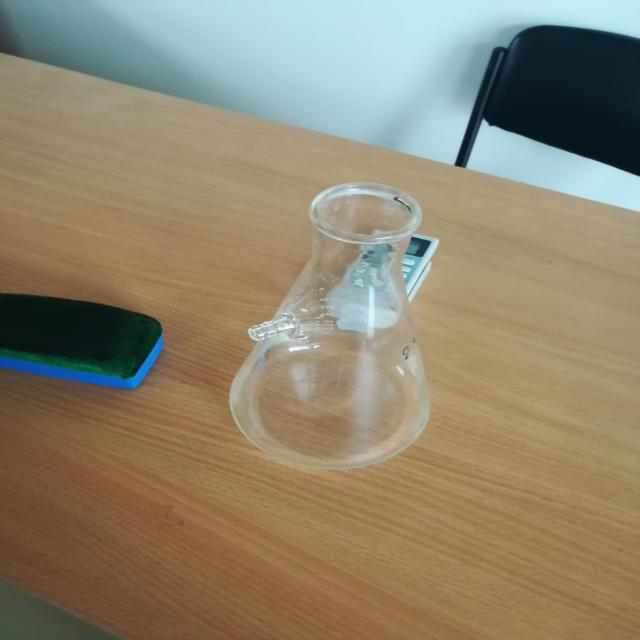Conical_Flask: (205, 144, 464, 487)
